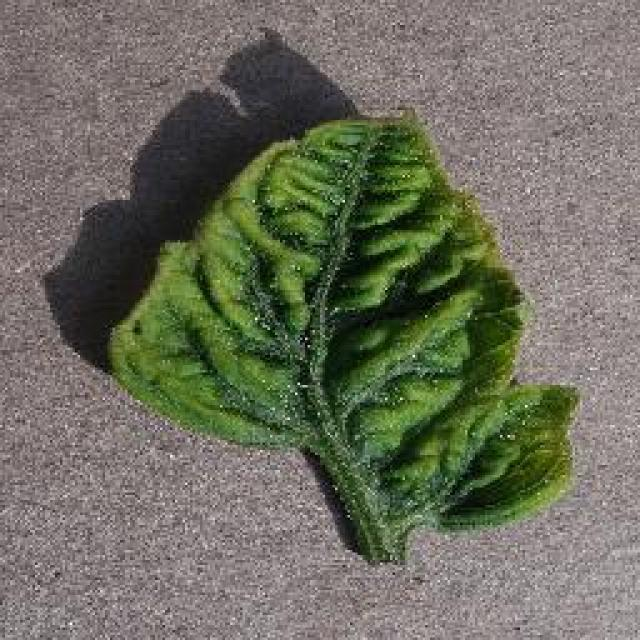Tomato yellow virus leaf: (114, 108, 584, 537)
